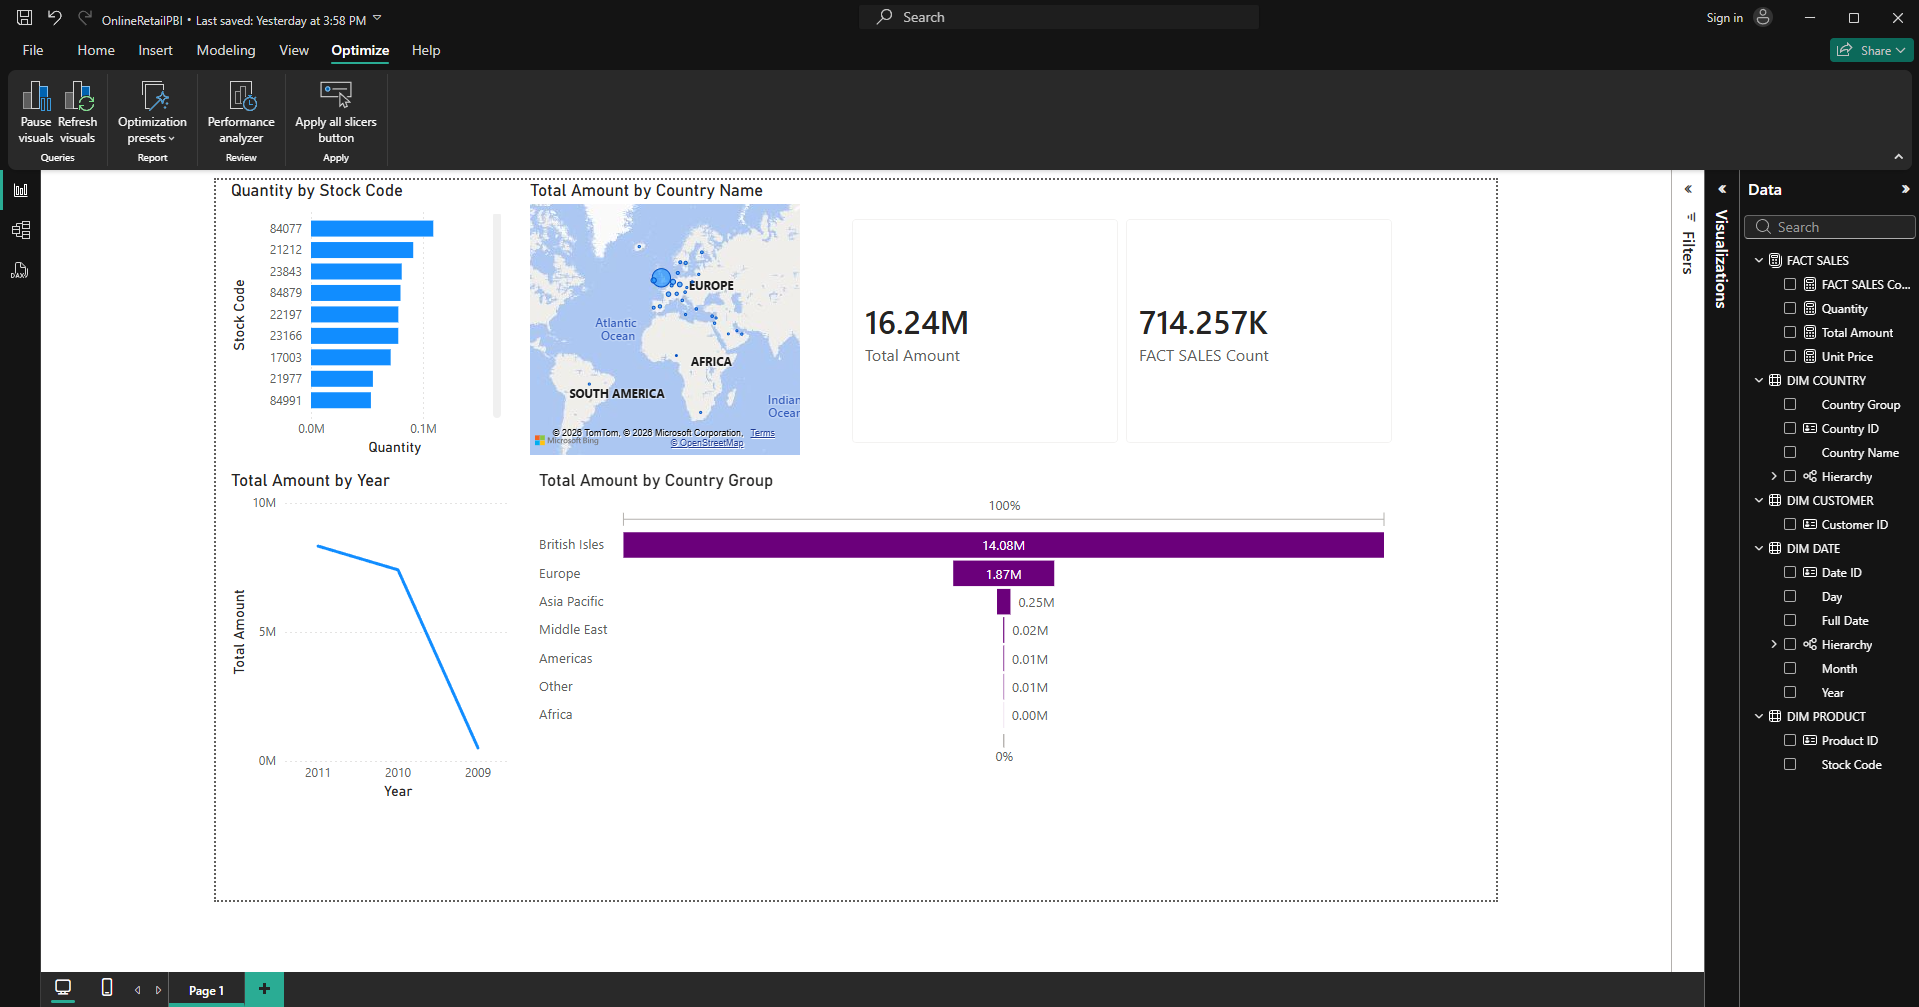

The page's visual inventory and layout, read from the dashboard file:
{"tool":"powerbi","page":{"name":"Page 1","canvas":[1280,720],"ordinal":0},"visuals":[{"type":"barChart","fields":{"Category":["DIM PRODUCT.Stock Code"],"Y":["FACT SALES.Quantity"]},"box":[10,0,280,280],"z":0},{"type":"lineChart","fields":{"Category":["DIM DATE.Year"],"Y":["FACT SALES.Total Amount"]},"box":[10,290,289.2,334.2],"z":1000},{"type":"map","fields":{"Category":["DIM COUNTRY.Country Name"],"Size":["FACT SALES.Total Amount"]},"box":[309,0,280,280],"z":2000},{"type":"cardVisual","fields":{"Data":["FACT SALES.Total Amount","FACT SALES.FACT SALES Count"]},"box":[618.6,22.4,575.8,257.8],"z":3000},{"type":"funnel","fields":{"Category":["DIM COUNTRY.Country Group"],"Y":["FACT SALES.Total Amount"]},"box":[318.3,290.3,859.7,300.4],"z":4000}]}

Visuals, with their boxes on the page's 1280x720 design canvas (x1, y1, x2, y2). These are canvas units, not pixel positions in the 1919x1007 screenshot, which may show the page scaled, cropped or inside an application window:
barChart - DIM PRODUCT.Stock Code x FACT SALES.Quantity: 10, 0, 290, 280
lineChart - DIM DATE.Year x FACT SALES.Total Amount: 10, 290, 299, 624
map - DIM COUNTRY.Country Name x FACT SALES.Total Amount: 309, 0, 589, 280
cardVisual - FACT SALES.Total Amount x FACT SALES.FACT SALES Count: 619, 22, 1194, 280
funnel - DIM COUNTRY.Country Group x FACT SALES.Total Amount: 318, 290, 1178, 591
